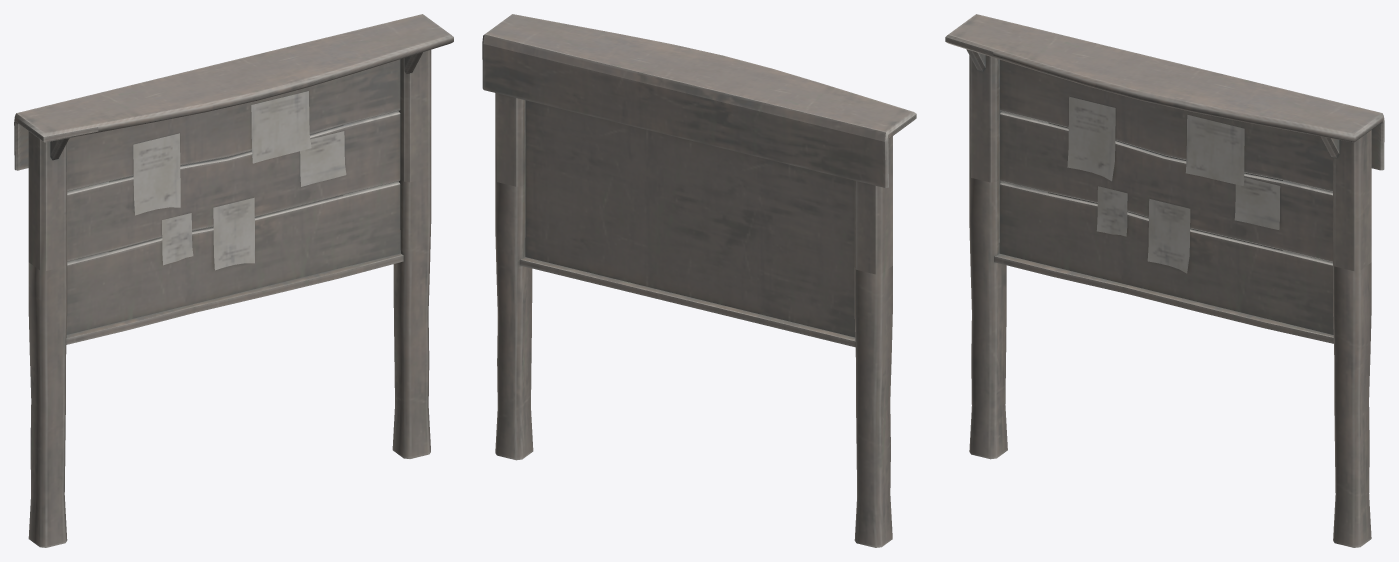
File: bang-tin-go.glb
3 views of the same model, side by side, from view 1: azimuth 30°, elevation 25°; view 2: azimuth 150°, elevation 25°; view 3: azimuth 330°, elevation 25° (orthographic).
Parts seen in each view (by area): view 1: bang-tin-go; view 2: bang-tin-go; view 3: bang-tin-go.
Boxes of the visible parts, box(x1,y1,x2,y2) form: bang-tin-go: box(14, 14, 453, 547); bang-tin-go: box(482, 14, 916, 547); bang-tin-go: box(945, 14, 1384, 547).
Bounding box in the file's own units: 6.06 × 6 × 1.04.
1 material, 1 textured.
